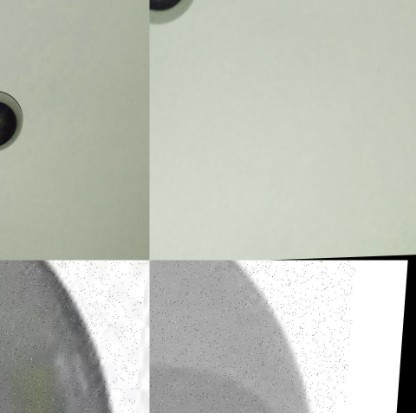ironball: (149, 260, 365, 412), (0, 260, 149, 412), (0, 91, 22, 154), (150, 0, 191, 28)
